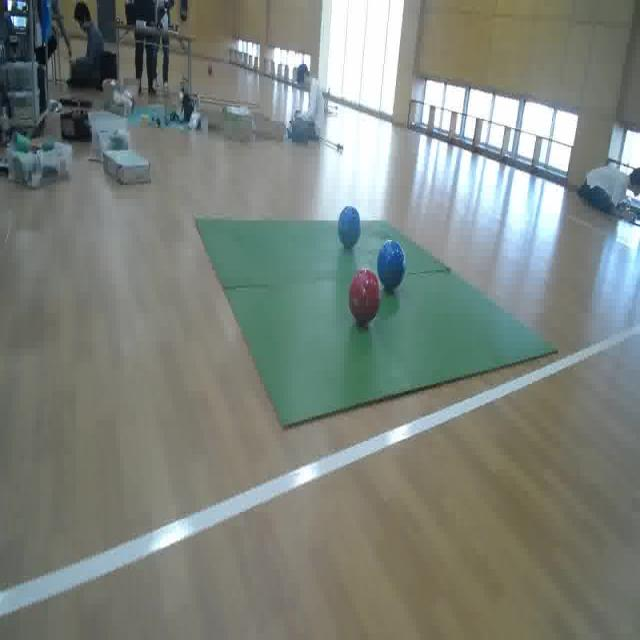blue_ball: (378, 238, 407, 290), (336, 206, 362, 252)
red_ball: (347, 269, 380, 324)
